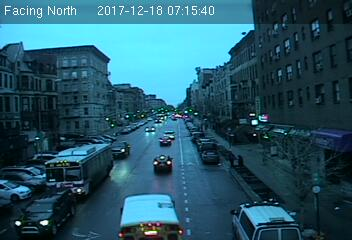bus: (42, 144, 115, 198)
car: (13, 186, 77, 235), (152, 155, 174, 173), (109, 141, 132, 158), (200, 149, 221, 162), (158, 136, 171, 146)
pedestrian: (227, 150, 236, 169), (237, 153, 244, 168)
police: (229, 199, 304, 240)
